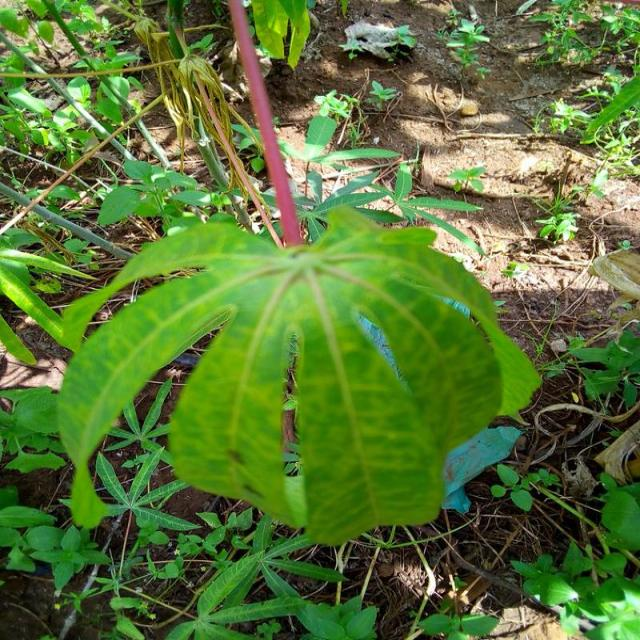cassava leaf: (56, 205, 542, 546)
